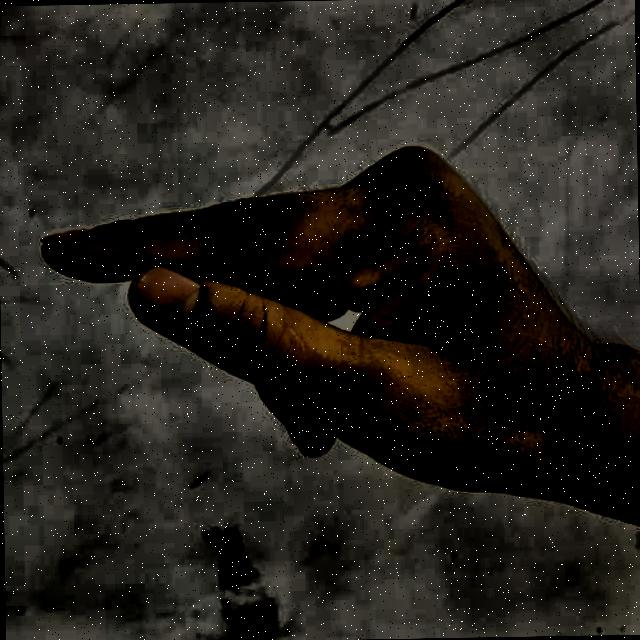Tha: (30, 118, 640, 582)
